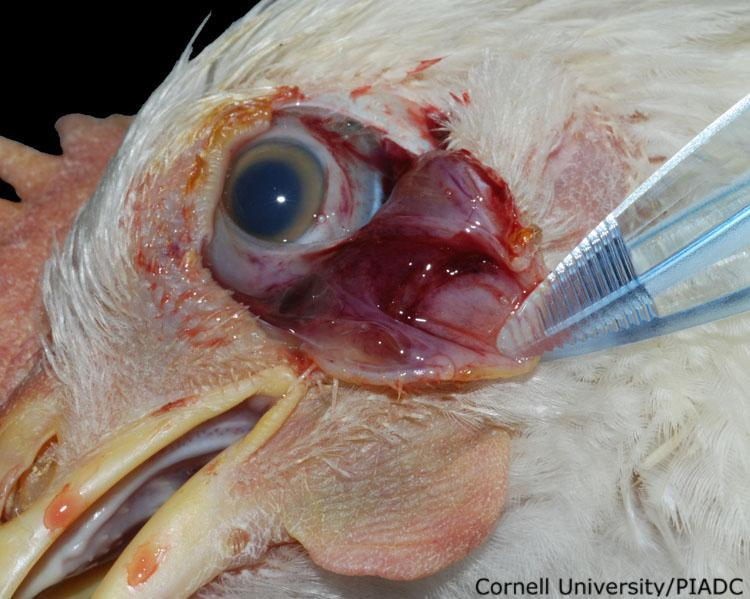AbNormal: (0, 1, 750, 599)
